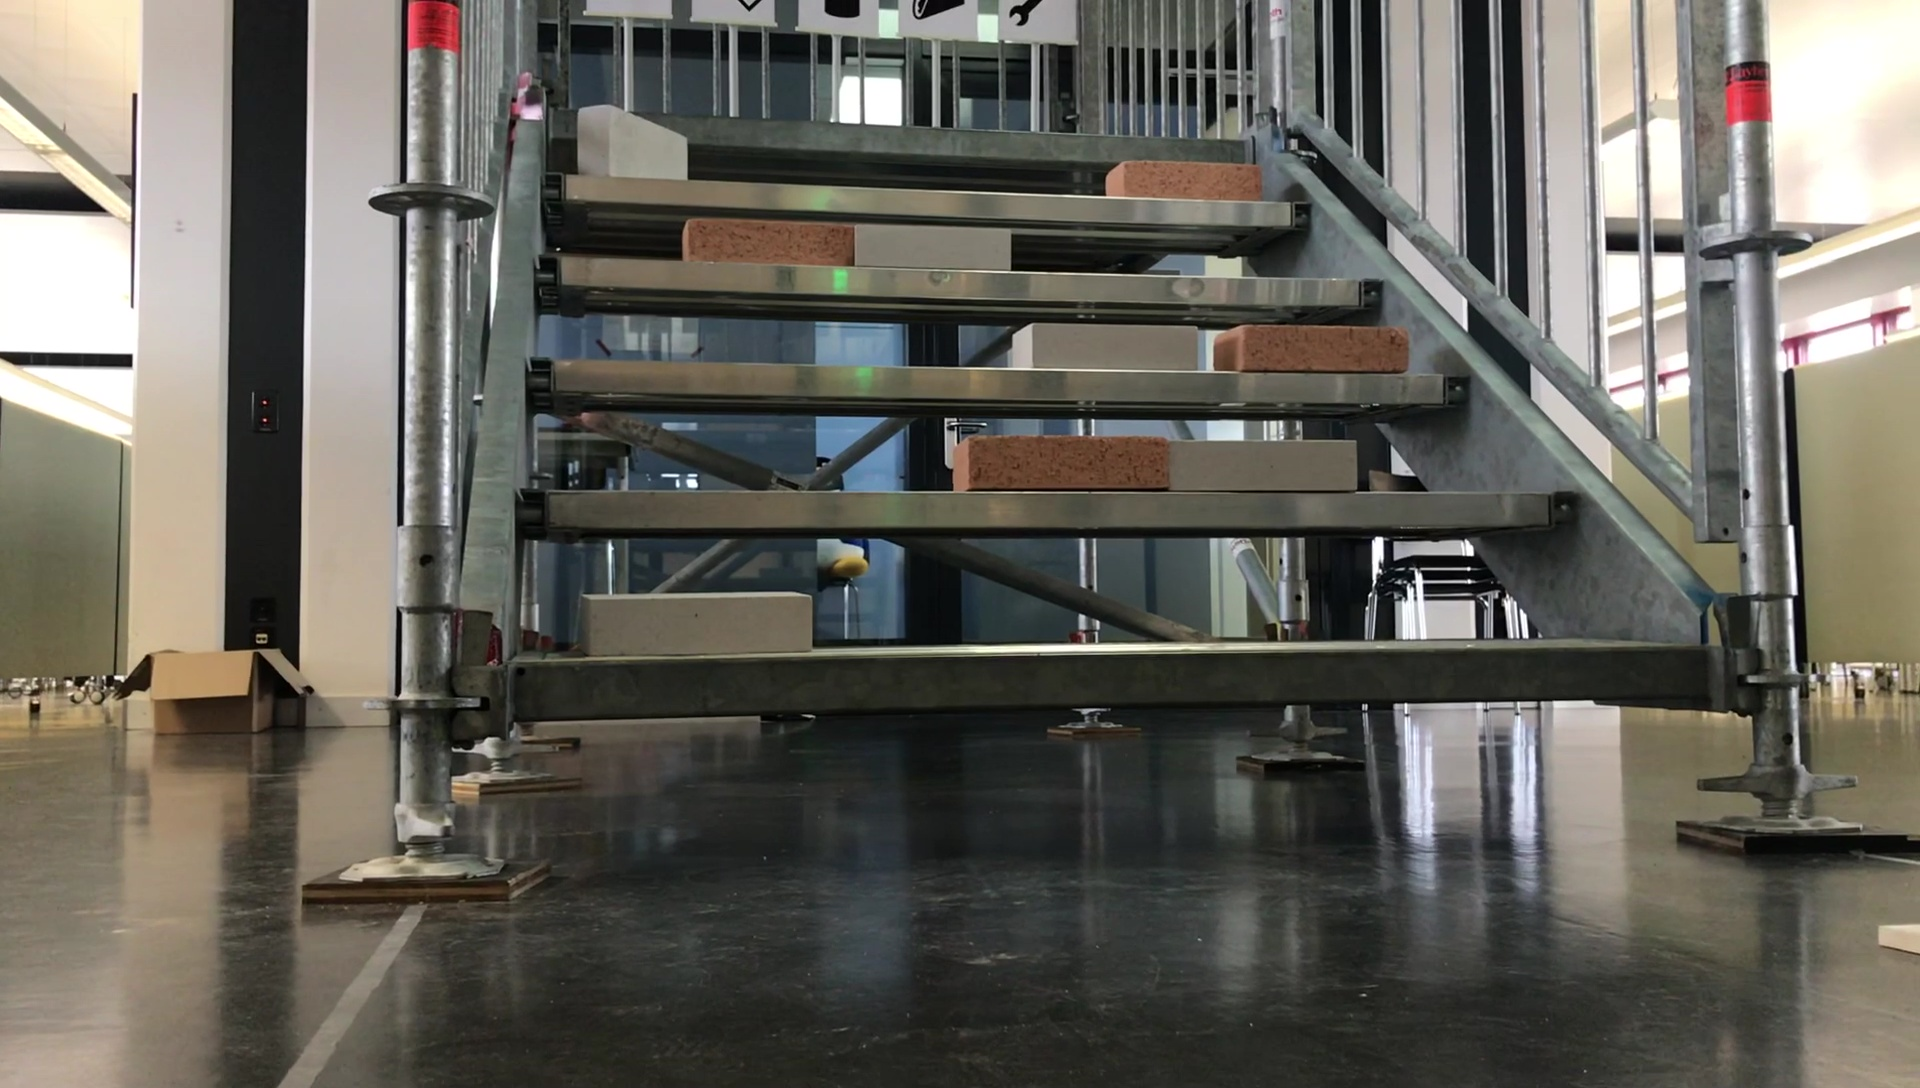brick: (567, 582, 816, 665), (1156, 433, 1365, 496), (568, 98, 703, 179), (1217, 320, 1411, 376), (997, 320, 1211, 371), (953, 434, 1149, 487), (682, 216, 841, 266), (848, 223, 1010, 264), (1098, 158, 1275, 194)
edge: (485, 632, 1716, 725), (545, 349, 1473, 415), (514, 481, 1586, 535), (541, 182, 1320, 229), (533, 258, 1393, 295), (533, 125, 1253, 160)
stairs: (371, 0, 1815, 862)
steps: (472, 108, 1747, 735)
